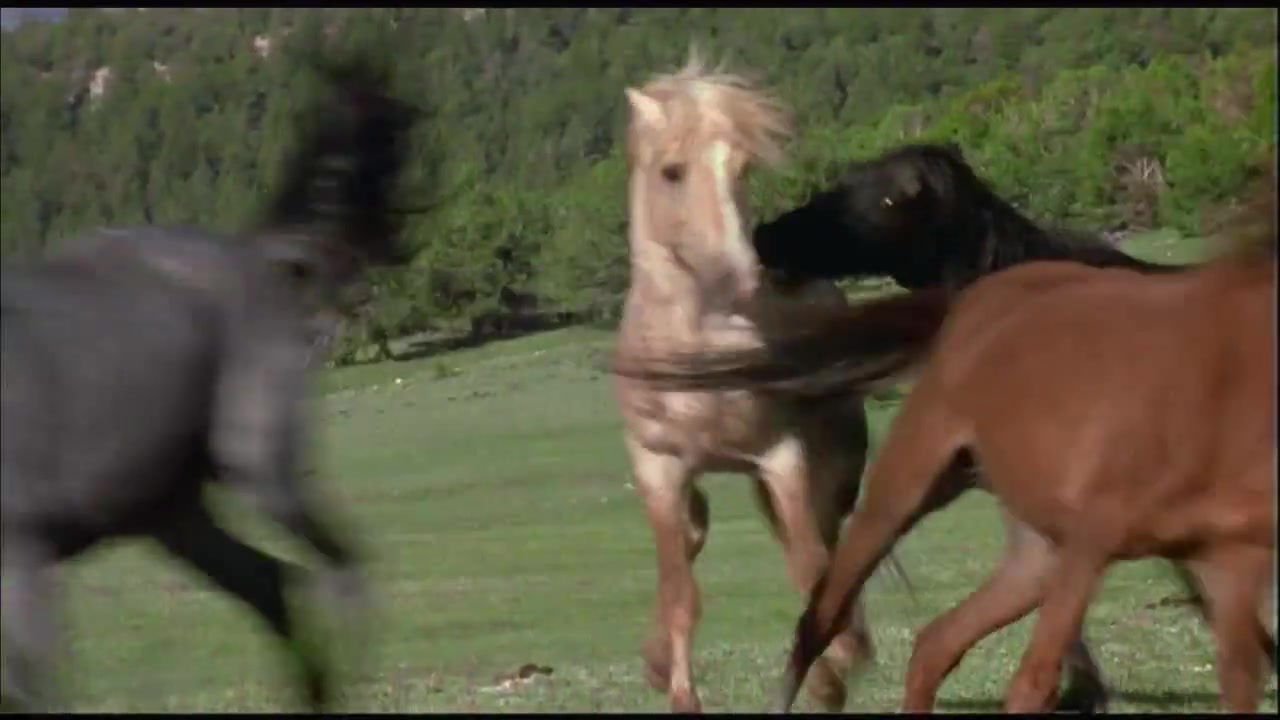horse: (613, 37, 873, 714)
